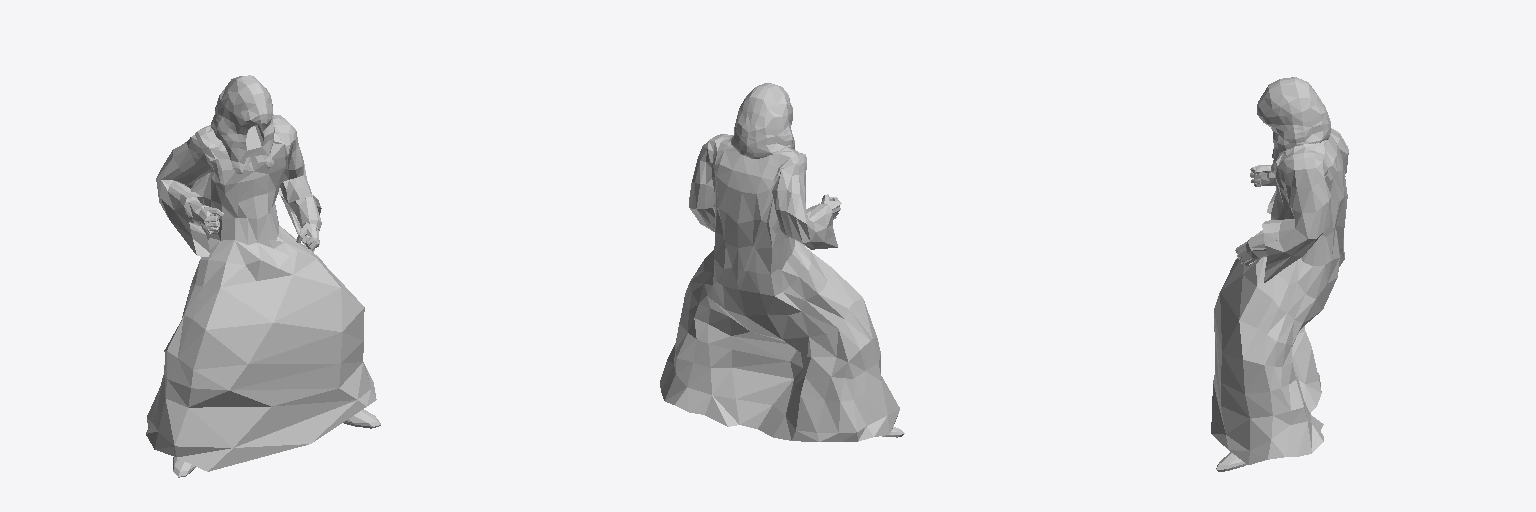
File: Fellbeast_Animate_Flying_9.obj
3 views of the same model, side by side, from view 1: azimuth 30°, elevation 25°; view 2: azimuth 150°, elevation 25°; view 3: azimuth 270°, elevation 25° (orthographic).
Parts seen in each view (by area): view 1: dm_nazgulrobe_ride_241108; view 2: dm_nazgulrobe_ride_241108; view 3: dm_nazgulrobe_ride_241108.
Boxes of the visible parts, <box> form: dm_nazgulrobe_ride_241108: <box>146,75,380,477</box>; dm_nazgulrobe_ride_241108: <box>660,83,904,441</box>; dm_nazgulrobe_ride_241108: <box>1211,77,1348,471</box>.
Bounding box in the file's own units: 0.442 × 0.6644 × 0.2364.